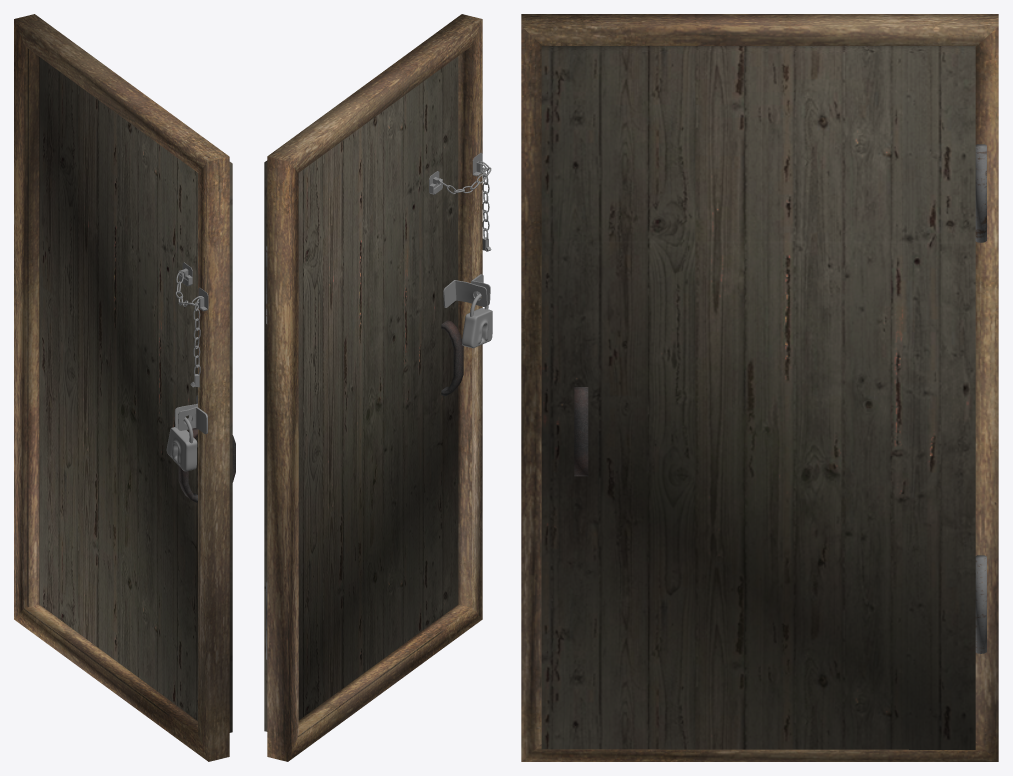
File: Doorlock.fbx
3 renders of one model, left to right at view 1: azimuth 30°, elevation 25°; view 2: azimuth 150°, elevation 25°; view 3: azimuth 270°, elevation 25°, orthographic. The views are drawn at different scales.
Visible parts, largest first — view 1: old_wooden_door.001, old_wooden_door, lOCK, lOCK2, cH2, cH1; view 2: old_wooden_door.001, old_wooden_door, lOCK, lOCK2, cH1, cH2; view 3: old_wooden_door.001, old_wooden_door.
Boxes of the visible parts, x1,y1,x2,y2 form: old_wooden_door.001: (39,57,235,732); old_wooden_door: (14,14,229,761); lOCK: (166,417,197,471); lOCK2: (174,395,207,434); cH2: (190,299,200,387); cH1: (178,262,208,311); old_wooden_door.001: (264,56,463,731); old_wooden_door: (266,14,482,761); lOCK: (462,293,492,348); lOCK2: (443,274,490,307); cH1: (429,152,485,194); cH2: (481,164,491,251); old_wooden_door.001: (541,46,975,749); old_wooden_door: (521,14,998,761).
Bounding box in the file's own units: 421 × 3557 × 2091.
2 materials, 1 textured.
